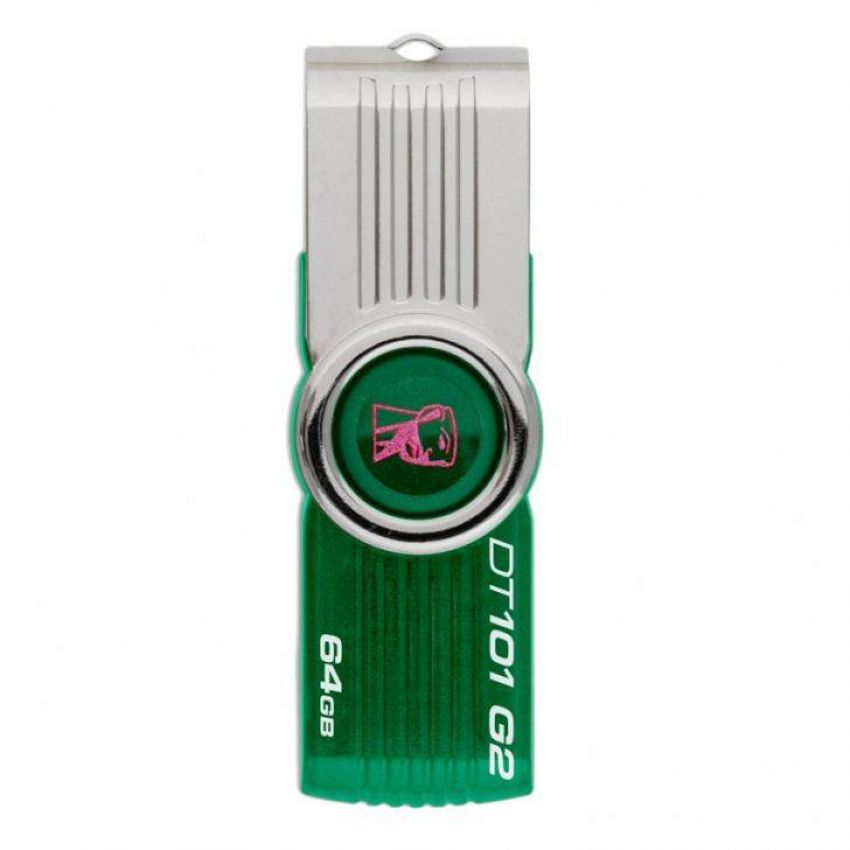Kingston: (361, 390, 468, 478)
